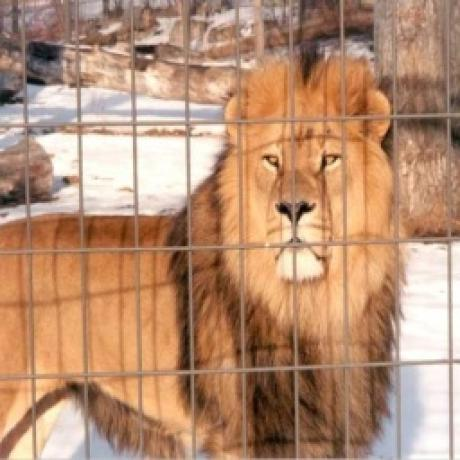Lion: (0, 43, 409, 460)
